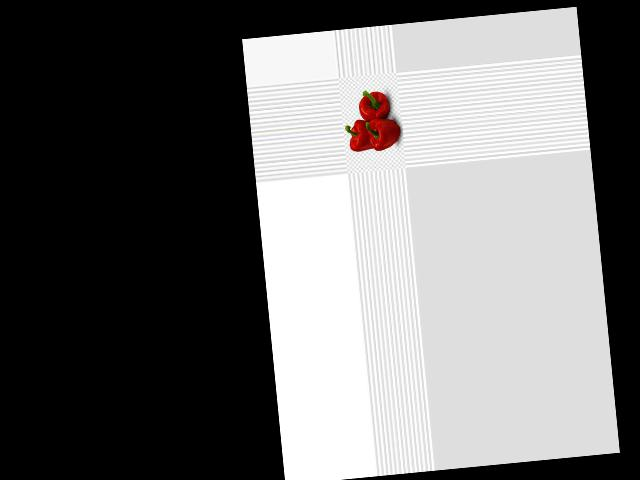bell_pepper: (353, 86, 394, 125)
